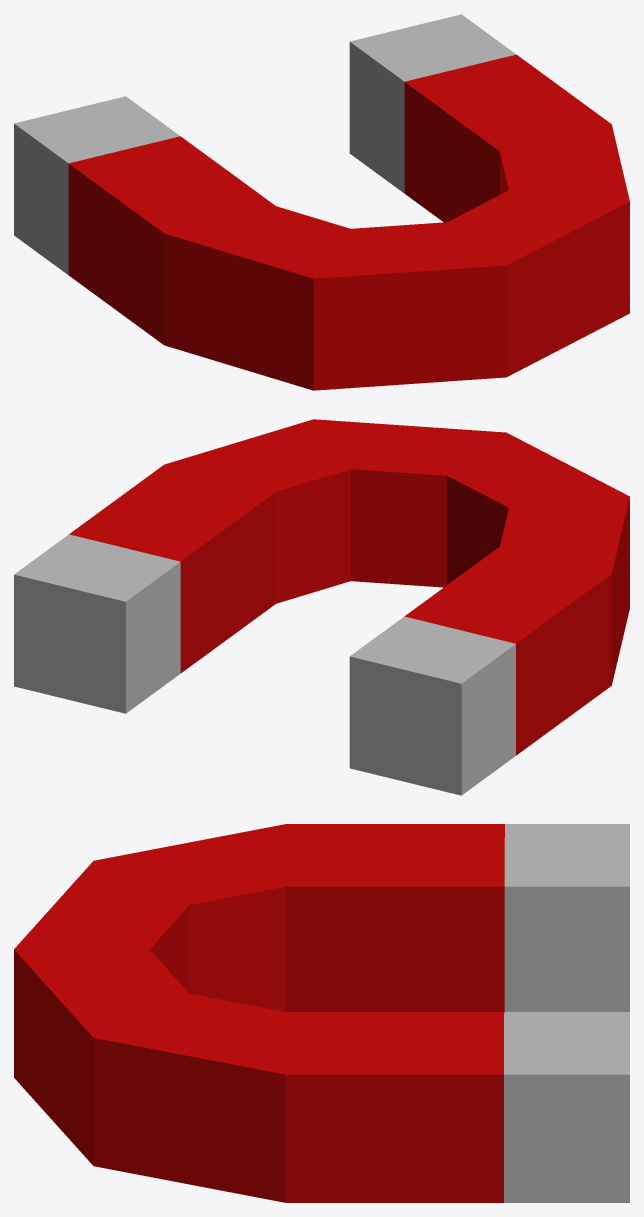
File: Magnet.fbx
The picture shows the model from 3 angles, top to bottom: view 1: azimuth 30°, elevation 25°; view 2: azimuth 150°, elevation 25°; view 3: azimuth 270°, elevation 25°; orthographic projection. The views are drawn at different scales.
Parts seen in each view (by area): view 1: magnet; view 2: magnet; view 3: magnet.
Part boxes in pixels (x1,y1,x2,y2): magnet: [14, 14, 629, 390]; magnet: [14, 419, 629, 795]; magnet: [14, 824, 629, 1202].
Bounding box in the file's own units: 200 × 47.79 × 208.
